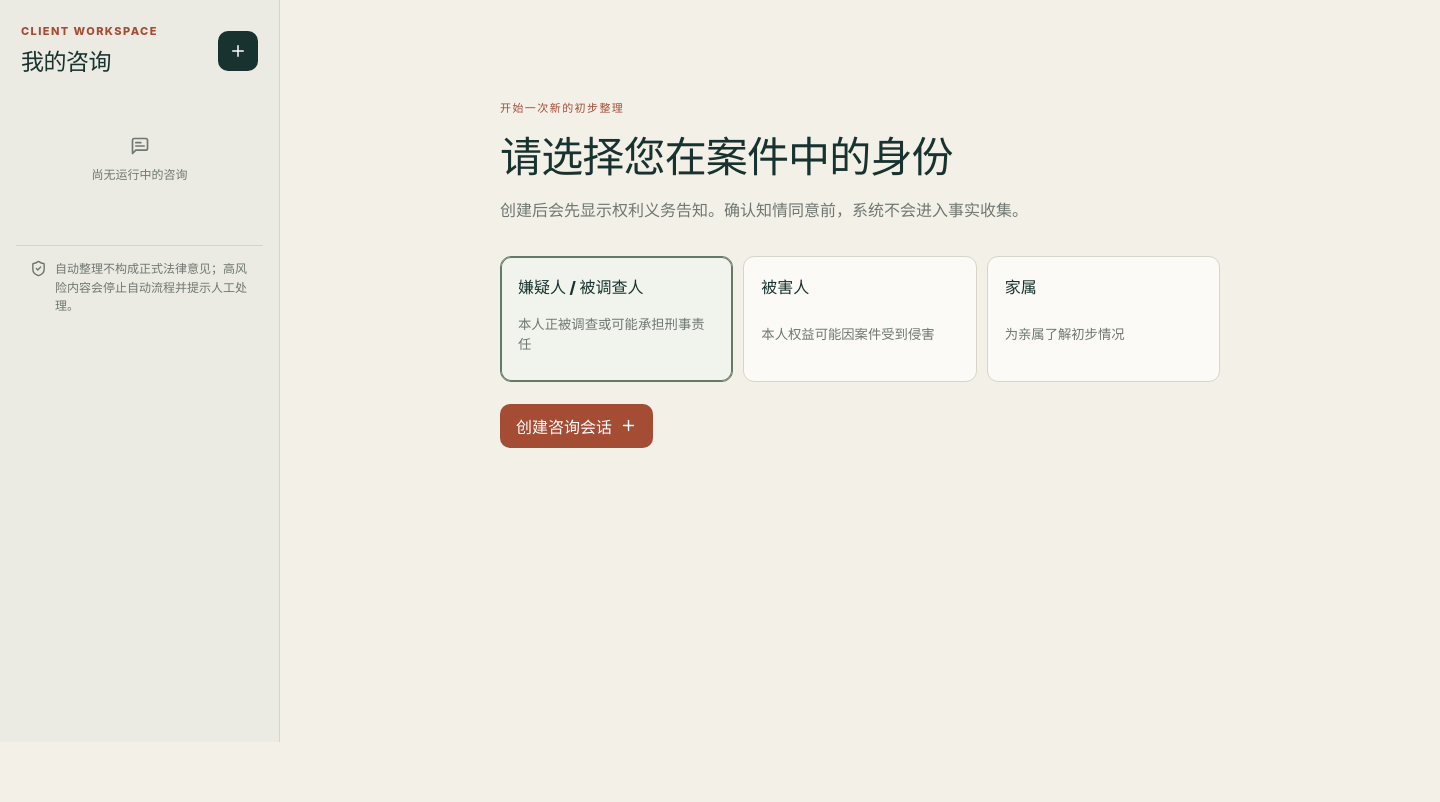
Test: ClientWorkspace core requests › creates a workflow session and renders both backend identifiers
Click the button "创建咨询会话" at point(576, 426), box [500, 404, 653, 448]
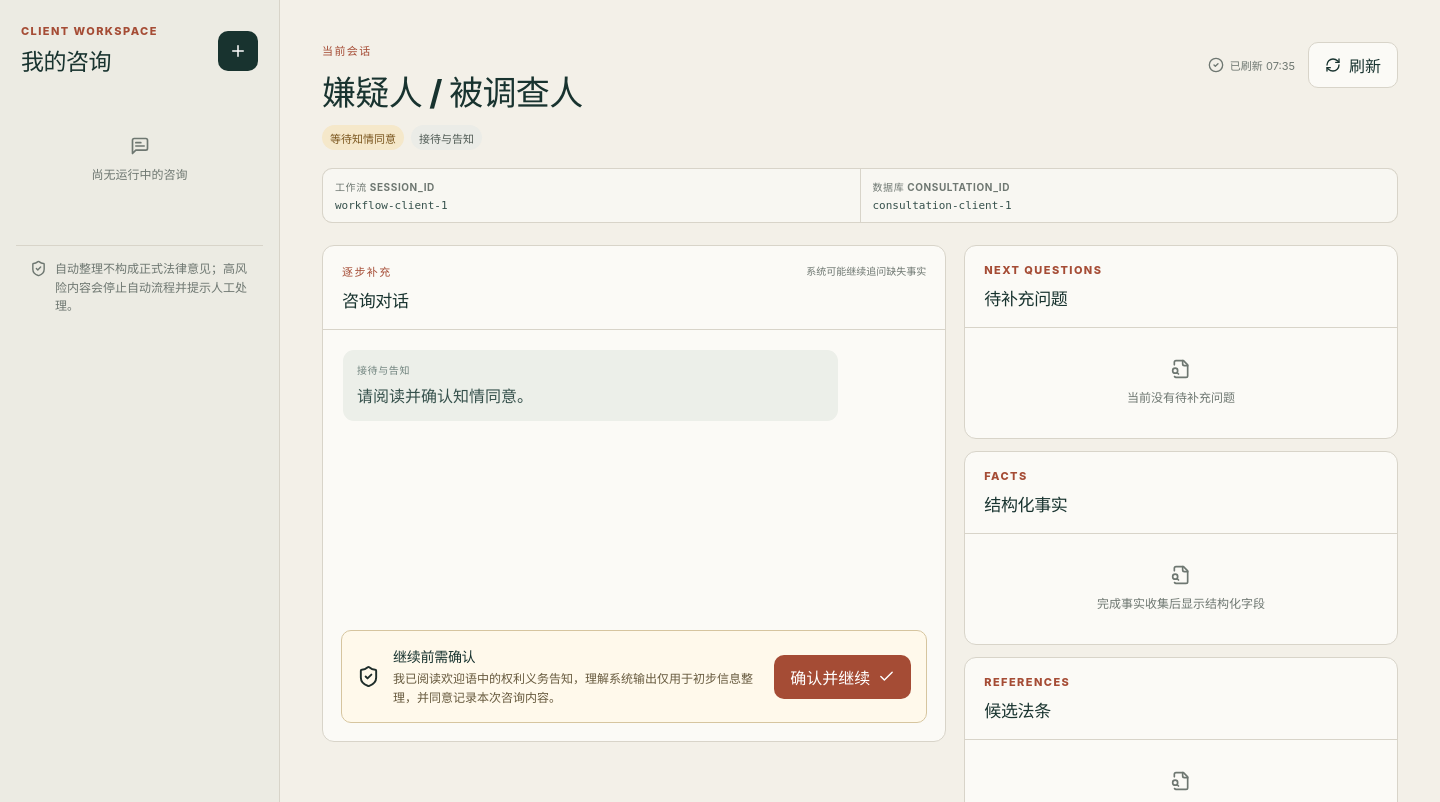
Now the text "workflow-client-1" is shown, box [335, 199, 448, 212]
Now the text "consultation-client-1" is shown, box [872, 199, 1012, 212]
